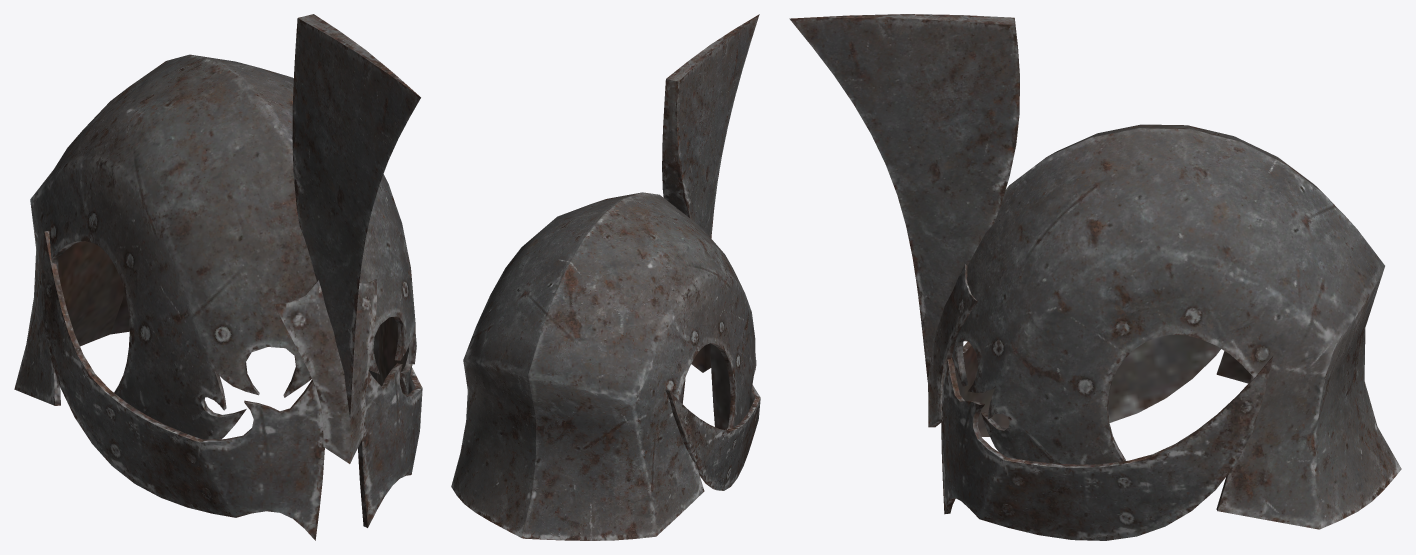
The model's file is sk_gb_uruk_helmet_heavy_k.fbx.
The picture shows the model from 3 angles, left to right: view 1: azimuth 30°, elevation 25°; view 2: azimuth 150°, elevation 25°; view 3: azimuth 270°, elevation 25°; orthographic projection. The views are drawn at different scales.
Visible parts, largest first — view 1: sk_gb_uruk_helmet_heavy_k; view 2: sk_gb_uruk_helmet_heavy_k; view 3: sk_gb_uruk_helmet_heavy_k.
Boxes of the visible parts, <box> form: sk_gb_uruk_helmet_heavy_k: <box>14,14,422,540</box>; sk_gb_uruk_helmet_heavy_k: <box>451,14,760,540</box>; sk_gb_uruk_helmet_heavy_k: <box>789,14,1401,540</box>.
Bounding box in the file's own units: 0.2123 × 0.3934 × 0.344.
1 material, 1 textured.
